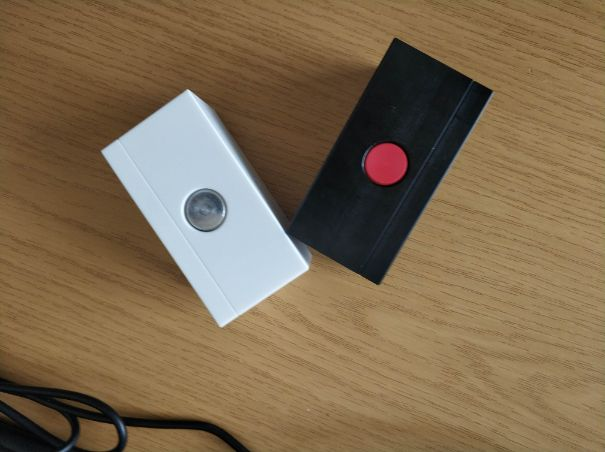black+black+red: (284, 36, 498, 290)
white+white+silver: (93, 88, 314, 330)
